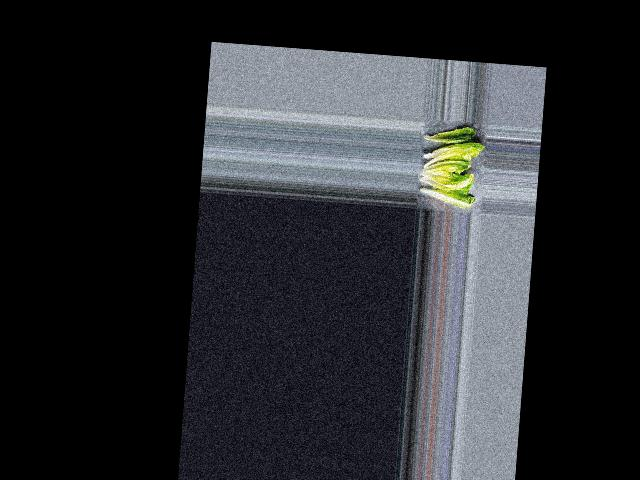lettuce: (421, 125, 475, 146)
